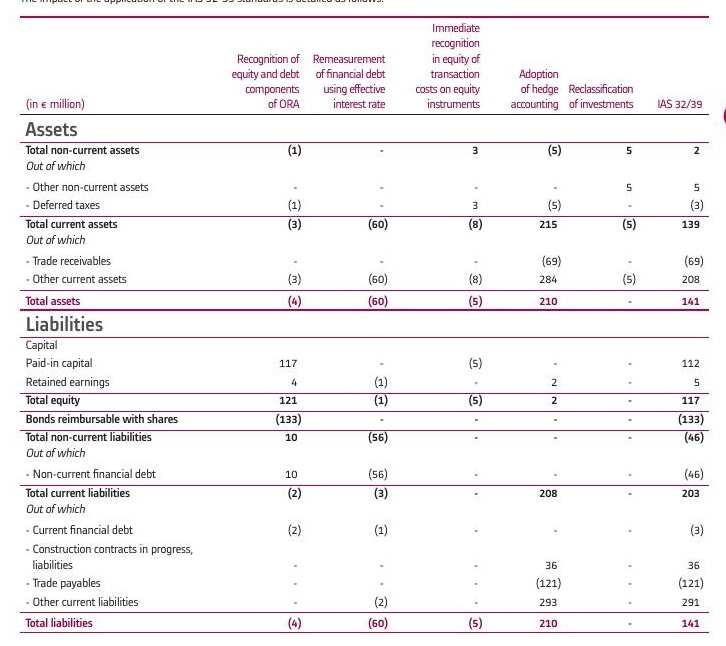table: (0, 0, 726, 646)
